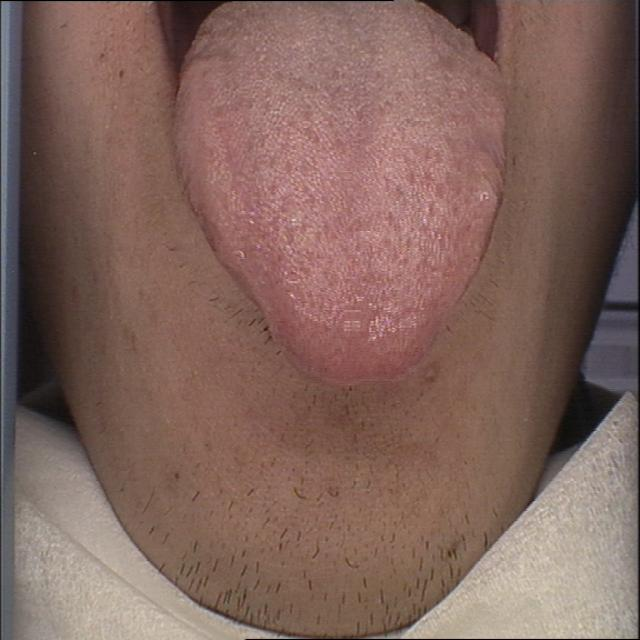tongue: (169, 3, 515, 389)
